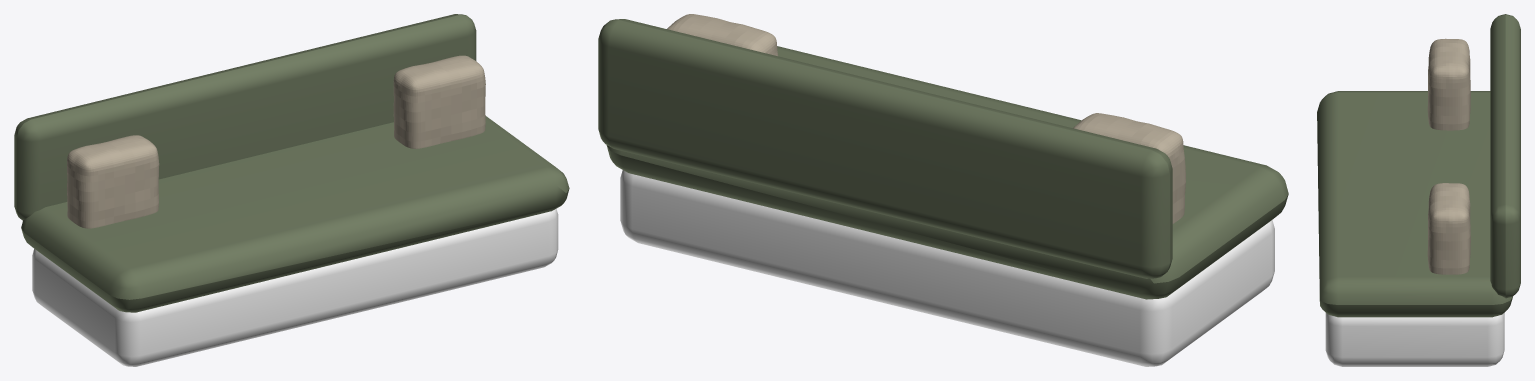
The model's file is daybed.glb.
3 views of the same model, side by side, from view 1: azimuth 30°, elevation 25°; view 2: azimuth 150°, elevation 25°; view 3: azimuth 270°, elevation 25° (orthographic). The views are drawn at different scales.
Parts seen in each view (by area): view 1: Convertible study daybed.001, Daybed back.001, Study daybed base.001, Daybed pillow.003, Daybed pillow.002; view 2: Daybed back.001, Study daybed base.001, Convertible study daybed.001, Daybed pillow.002, Daybed pillow.003; view 3: Convertible study daybed.001, Study daybed base.001, Daybed back.001, Daybed pillow.003, Daybed pillow.002.
Boxes of the visible parts, left/top/right/bottom form: Convertible study daybed.001: left=21, top=116, right=569, bottom=312; Daybed back.001: left=14, top=14, right=476, bottom=220; Study daybed base.001: left=32, top=208, right=558, bottom=366; Daybed pillow.003: left=393, top=55, right=485, bottom=148; Daybed pillow.002: left=67, top=135, right=159, bottom=228; Daybed back.001: left=598, top=19, right=1172, bottom=278; Study daybed base.001: left=620, top=170, right=1274, bottom=366; Convertible study daybed.001: left=606, top=46, right=1288, bottom=299; Daybed pillow.002: left=1073, top=113, right=1185, bottom=223; Daybed pillow.003: left=667, top=14, right=778, bottom=56; Convertible study daybed.001: left=1317, top=91, right=1512, bottom=317; Study daybed base.001: left=1325, top=313, right=1504, bottom=366; Daybed back.001: left=1490, top=14, right=1520, bottom=298; Daybed pillow.003: left=1427, top=183, right=1470, bottom=274; Daybed pillow.002: left=1427, top=38, right=1470, bottom=130.
Size of the model in its own units: 2.8 by 1.07 by 1.2.
